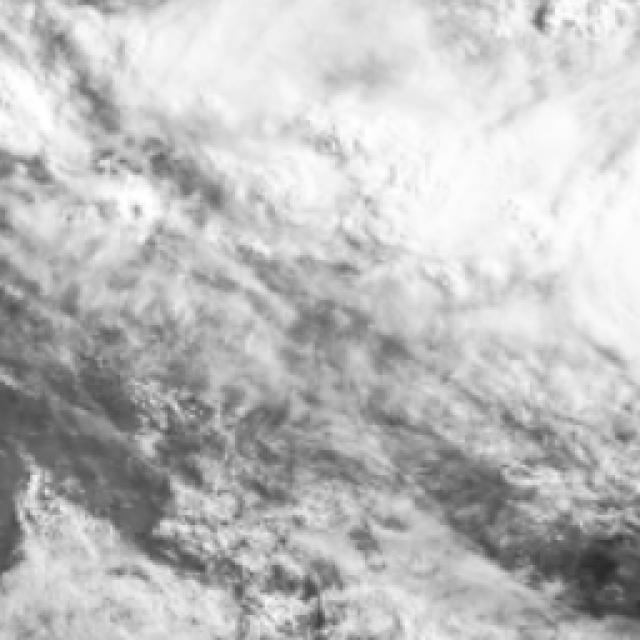CB: (437, 130, 554, 240)
